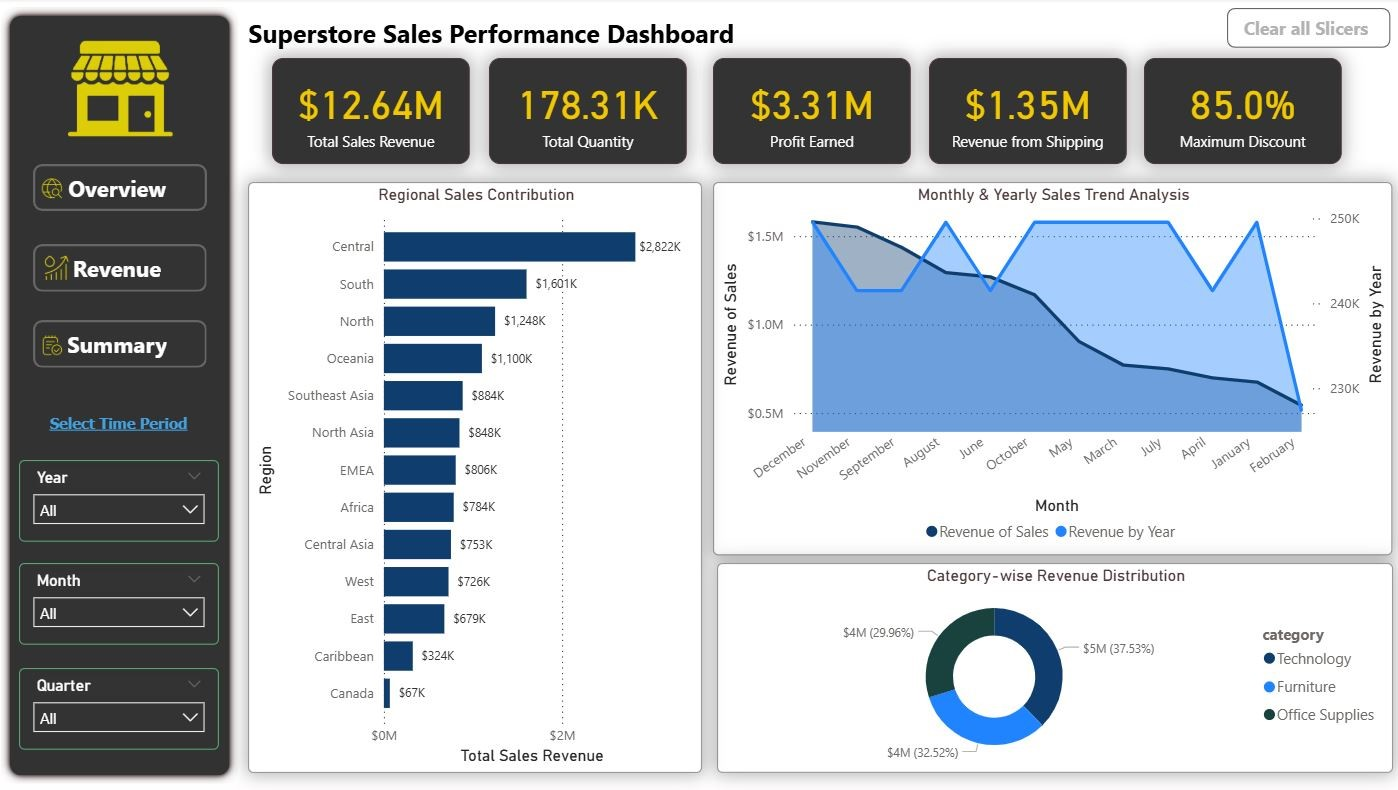

This screenshot's page, from the dashboard's own definition file:
{"tool":"powerbi","page":{"name":"Superstore Sales Overview","canvas":[1280,720],"ordinal":0},"visuals":[{"type":"card","fields":{"Values":["Sum(Superstore_Sales.sales)"]},"box":[258.7,54.5,179,96.3],"z":0},{"type":"shape","box":[42.5,150.3,157.5,42.5],"z":0,"group":"g1"},{"type":"shape","box":[14,8,214.8,703.5],"z":1000},{"type":"image","box":[43.4,156.6,32.6,33.5],"z":1000,"group":"g1"},{"type":"card","fields":{"Values":["Sum(Superstore_Sales.quantity)"]},"box":[455.2,54.5,179,96.3],"z":2000},{"type":"card","fields":{"Values":["Sum(Superstore_Sales.profit)"]},"box":[658.5,54.5,179,96.3],"z":3000},{"type":"card","fields":{"Values":["Sum(Superstore_Sales.shipping_cost)"]},"box":[854,54.5,179,96.3],"z":4000},{"type":"card","fields":{"Values":["Max(Superstore_Sales.discount)"]},"box":[1048.5,54.5,179,96.3],"z":5000},{"type":"lineChart","title":"Monthly & Yearly Sales Trend Analysis","fields":{"Category":["Date Table.Month"],"Y":["Sum(Superstore_Sales.sales)"],"Y2":["Sum(Date Table.Year)"]},"box":[658.5,166.3,614.7,338.5],"z":6000},{"type":"donutChart","title":"Category-wise Revenue Distribution","fields":{"Category":["Superstore_Sales.category"],"Y":["Sum(Superstore_Sales.sales)"]},"box":[661.4,511.6,611.8,189.7],"z":7000},{"type":"barChart","title":"Regional Sales Contribution","fields":{"Category":["Superstore_Sales.region"],"Y":["Sum(Superstore_Sales.sales)"]},"box":[237.3,166.3,411.4,535],"z":8000},{"type":"actionButton","box":[231.5,11.7,451.3,38.9],"z":9000},{"type":"image","box":[56.1,27.2,130.4,108.6],"z":10000},{"type":"shape","box":[42.4,291.7,157.5,43.4],"z":11000},{"type":"shape","box":[42.4,223.1,157.5,43.4],"z":12000},{"type":"image","box":[44.4,227.1,37.4,35.3],"z":13000},{"type":"image","box":[43.4,296.8,31.3,35.3],"z":14000},{"type":"shape","box":[1123.1,9,147.9,36],"z":15000},{"type":"slicer","fields":{"Values":["Date Table.Quarter"]},"box":[30.3,606.7,180.7,73.7],"z":16000},{"type":"slicer","fields":{"Values":["Date Table.Year"]},"box":[30.3,417.9,180.7,73.7],"z":17000},{"type":"group","id":"g1","title":"Group 1","box":[42.5,150.3,157.5,42.5],"z":18000},{"type":"slicer","fields":{"Values":["Date Table.Month"]},"box":[30.3,511.8,180.7,73.7],"z":19000},{"type":"actionButton","box":[42.5,365.7,154.8,38.9],"z":20000}]}

Visuals, with their boxes in screenshot pixels (x1, y1, x2, y2), scaled from the page's 1280x720 canvas onto the 1398x790 screenshot:
card - Sum(Superstore_Sales.sales): 283 60 478 165
shape: 46 165 218 212
shape: 15 9 250 781
image: 47 172 83 209
card - Sum(Superstore_Sales.quantity): 497 60 693 165
card - Sum(Superstore_Sales.profit): 719 60 915 165
card - Sum(Superstore_Sales.shipping_cost): 933 60 1128 165
card - Max(Superstore_Sales.discount): 1145 60 1341 165
"Monthly & Yearly Sales Trend Analysis" lineChart: 719 182 1391 554
"Category-wise Revenue Distribution" donutChart: 722 561 1391 769
"Regional Sales Contribution" barChart: 259 182 709 769
actionButton: 253 13 746 56
image: 61 30 204 149
shape: 46 320 218 368
shape: 46 245 218 292
image: 48 249 89 288
image: 47 326 82 364
shape: 1227 10 1388 49
slicer - Date Table.Quarter: 33 666 230 747
slicer - Date Table.Year: 33 459 230 539
"Group 1" group: 46 165 218 212
slicer - Date Table.Month: 33 562 230 642
actionButton: 46 401 215 444
